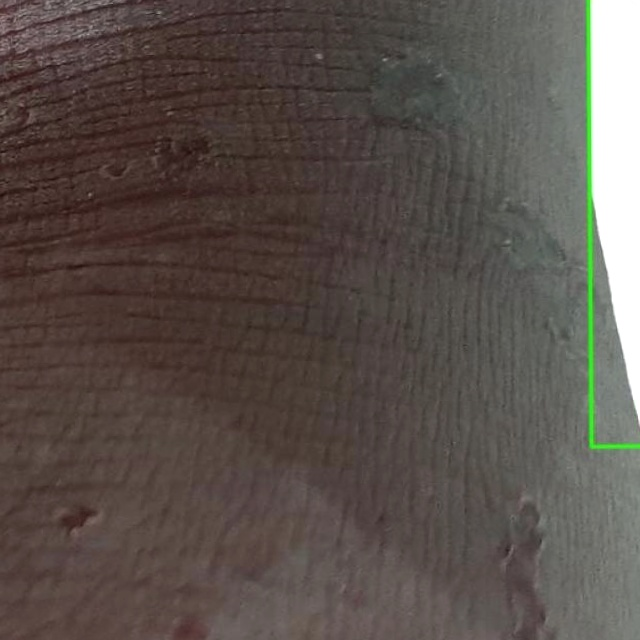Contact Dermatitis: (588, 0, 639, 445)
